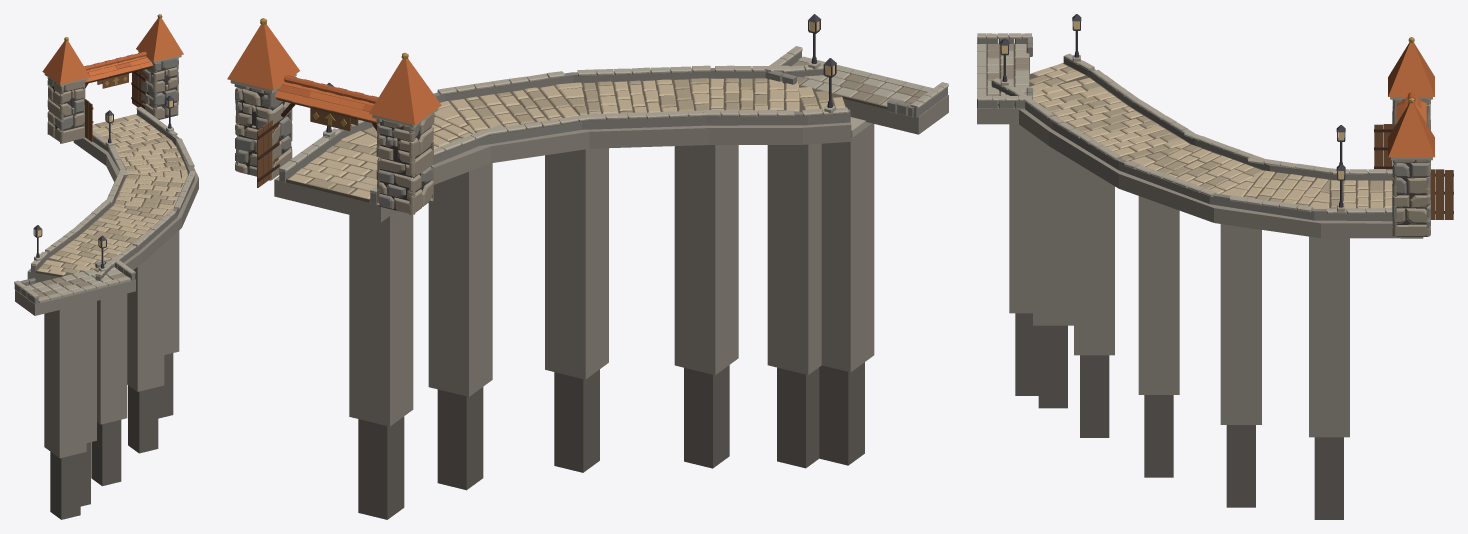
File: LOBBY_VM_07_EXIT_6c3d02.fbx
3 renders of one model, left to right at view 1: azimuth 30°, elevation 25°; view 2: azimuth 150°, elevation 25°; view 3: azimuth 270°, elevation 25°, orthographic. The views are drawn at different scales.
Visible parts, largest first — view 1: VM_Exit_Bridge__Stone_VM_Base, VM_Exit_Bridge__Stone_VM_Dark, VM_Exit_Bridge__Stone_Paving_VM_Cob, VM_Exit_Bridge__Stone_VM_Trim, VM_Exit_Gate__Roof_VM_Terracotta, VM_Exit_Bridge__Stone_Paving_VM_CobB, VM_Exit_Gate__Stone_VM_Warm, VM_Exit_Bridge__Stone_Paving_VM_Joint, VM_Exit_Bridge__Stone_VM_Grey, VM_Exit_Gate__Stone_VM_Grey, VM_Exit_Gate__Wood_VM_Plank, VM_Exit_Bridge__Metal_VM_Iron (+4 smaller); view 2: VM_Exit_Bridge__Stone_VM_Base, VM_Exit_Bridge__Stone_VM_Dark, VM_Exit_Bridge__Stone_Paving_VM_Cob, VM_Exit_Bridge__Stone_VM_Trim, VM_Exit_Bridge__Stone_VM_Grey, VM_Exit_Gate__Roof_VM_Terracotta, VM_Exit_Gate__Stone_VM_Warm, VM_Exit_Bridge__Stone_Paving_VM_CobB, VM_Exit_Bridge__Stone_Paving_VM_Joint, VM_Exit_Gate__Stone_VM_Grey, VM_Exit_Gate__Wood_VM_Plank, VM_Exit_Gate__Stone_VM_Mortar (+2 smaller); view 3: VM_Exit_Bridge__Stone_VM_Base, VM_Exit_Bridge__Stone_VM_Dark, VM_Exit_Bridge__Stone_Paving_VM_Cob, VM_Exit_Bridge__Stone_VM_Trim, VM_Exit_Bridge__Stone_VM_Grey, VM_Exit_Bridge__Stone_Paving_VM_CobB, VM_Exit_Gate__Roof_VM_Terracotta, VM_Exit_Bridge__Stone_Paving_VM_Joint, VM_Exit_Gate__Stone_VM_Warm, VM_Exit_Gate__Wood_VM_Plank, VM_Exit_Gate__Stone_VM_Grey, VM_Exit_Bridge__Metal_VM_Iron (+1 smaller).
Boxes of the visible parts, <box> form: VM_Exit_Bridge__Stone_VM_Base: <box>15,137,198,458</box>; VM_Exit_Bridge__Stone_VM_Dark: <box>50,353,173,519</box>; VM_Exit_Bridge__Stone_Paving_VM_Cob: <box>37,114,187,275</box>; VM_Exit_Bridge__Stone_VM_Trim: <box>14,106,195,303</box>; VM_Exit_Gate__Roof_VM_Terracotta: <box>42,18,183,84</box>; VM_Exit_Bridge__Stone_Paving_VM_CobB: <box>40,117,186,273</box>; VM_Exit_Gate__Stone_VM_Warm: <box>47,57,178,143</box>; VM_Exit_Bridge__Stone_Paving_VM_Joint: <box>31,114,187,295</box>; VM_Exit_Bridge__Stone_VM_Grey: <box>14,110,194,304</box>; VM_Exit_Gate__Stone_VM_Grey: <box>48,58,178,130</box>; VM_Exit_Gate__Wood_VM_Plank: <box>83,71,146,141</box>; VM_Exit_Bridge__Metal_VM_Iron: <box>33,95,173,268</box>; VM_Exit_Bridge__Stone_VM_Base: <box>274,95,948,426</box>; VM_Exit_Bridge__Stone_VM_Dark: <box>358,362,864,519</box>; VM_Exit_Bridge__Stone_Paving_VM_Cob: <box>288,78,845,199</box>; VM_Exit_Bridge__Stone_VM_Trim: <box>278,46,948,194</box>; VM_Exit_Bridge__Stone_VM_Grey: <box>279,51,947,204</box>; VM_Exit_Gate__Roof_VM_Terracotta: <box>227,24,441,124</box>; VM_Exit_Gate__Stone_VM_Warm: <box>235,87,434,215</box>; VM_Exit_Bridge__Stone_Paving_VM_CobB: <box>307,78,828,194</box>; VM_Exit_Bridge__Stone_Paving_VM_Joint: <box>286,61,919,202</box>; VM_Exit_Gate__Stone_VM_Grey: <box>234,84,433,208</box>; VM_Exit_Gate__Wood_VM_Plank: <box>257,108,358,187</box>; VM_Exit_Gate__Stone_VM_Mortar: <box>238,87,430,211</box>; VM_Exit_Bridge__Stone_VM_Base: <box>977,43,1423,437</box>; VM_Exit_Bridge__Stone_VM_Dark: <box>1015,313,1343,519</box>; VM_Exit_Bridge__Stone_Paving_VM_Cob: <box>1025,63,1392,209</box>; VM_Exit_Bridge__Stone_VM_Trim: <box>977,33,1392,213</box>; VM_Exit_Bridge__Stone_VM_Grey: <box>977,35,1392,221</box>; VM_Exit_Bridge__Stone_Paving_VM_CobB: <box>1029,67,1383,208</box>; VM_Exit_Gate__Roof_VM_Terracotta: <box>1388,42,1434,157</box>; VM_Exit_Bridge__Stone_Paving_VM_Joint: <box>986,44,1392,208</box>; VM_Exit_Gate__Stone_VM_Warm: <box>1392,99,1430,237</box>; VM_Exit_Gate__Wood_VM_Plank: <box>1374,124,1453,219</box>; VM_Exit_Gate__Stone_VM_Grey: <box>1392,105,1430,228</box>; VM_Exit_Bridge__Metal_VM_Iron: <box>1000,14,1345,207</box>.
Size of the model in its own units: 79.5 by 83.9 by 81.2.
